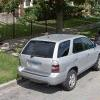Car: (16, 29, 99, 93)
